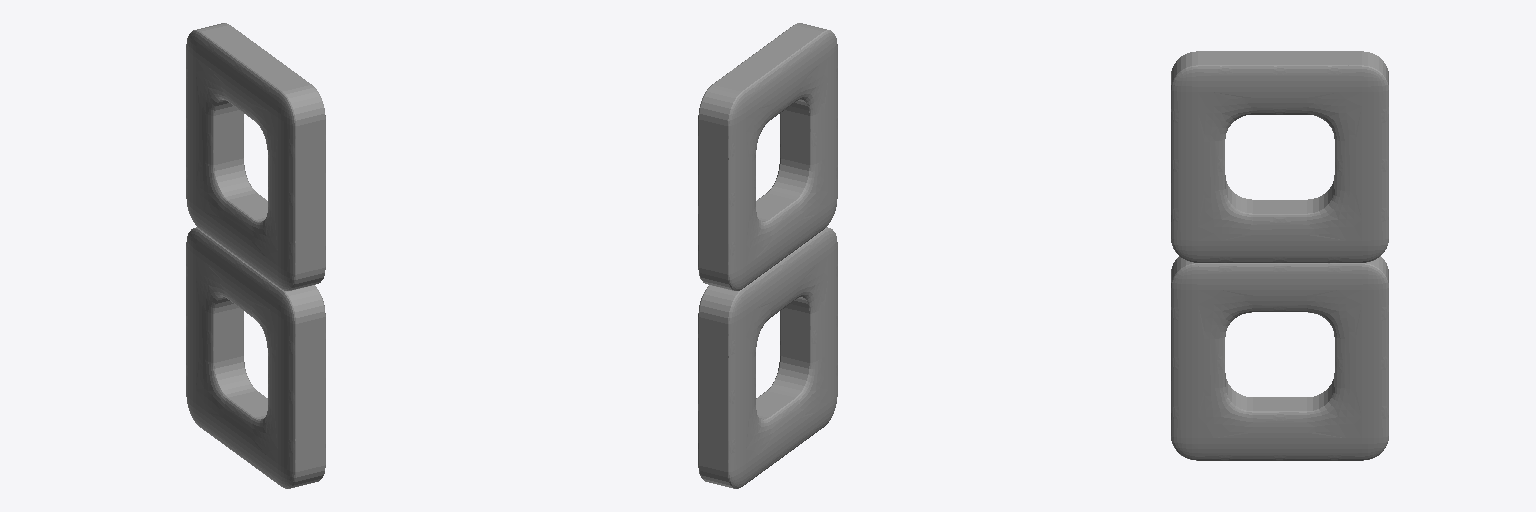
File: eight.obj
3 views of the same model, side by side, from view 1: azimuth 30°, elevation 25°; view 2: azimuth 150°, elevation 25°; view 3: azimuth 270°, elevation 25° (orthographic).
Visible parts, largest first — view 1: Cube; view 2: Cube; view 3: Cube.
Boxes of the visible parts, x1=… form: Cube: x1=186, y1=23, x2=325, y2=488; Cube: x1=698, y1=23, x2=837, y2=488; Cube: x1=1171, y1=51, x2=1388, y2=460.
Bounding box in the file's own units: 1.57 × 15.48 × 7.74.